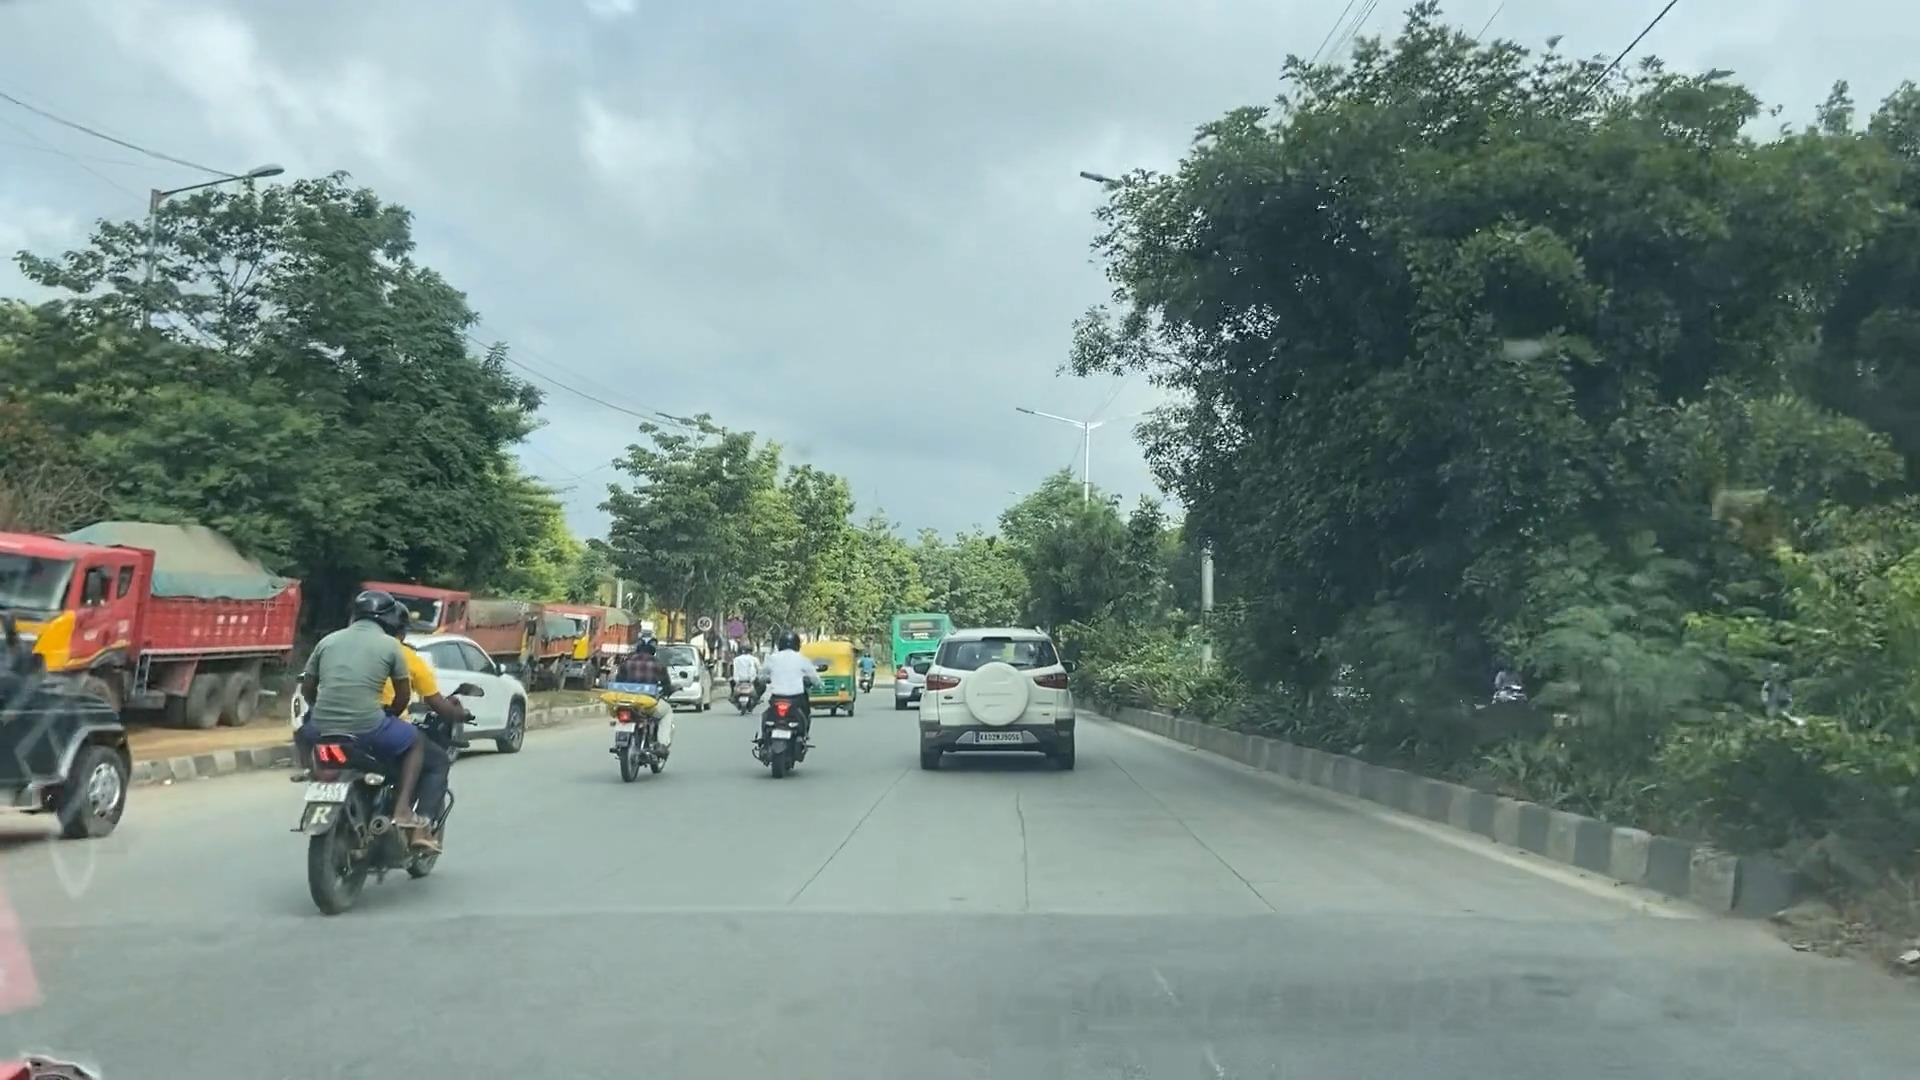HMV: (0, 514, 310, 761)
LMV: (287, 585, 472, 922), (902, 616, 1093, 793), (707, 551, 819, 825), (589, 620, 686, 787)
